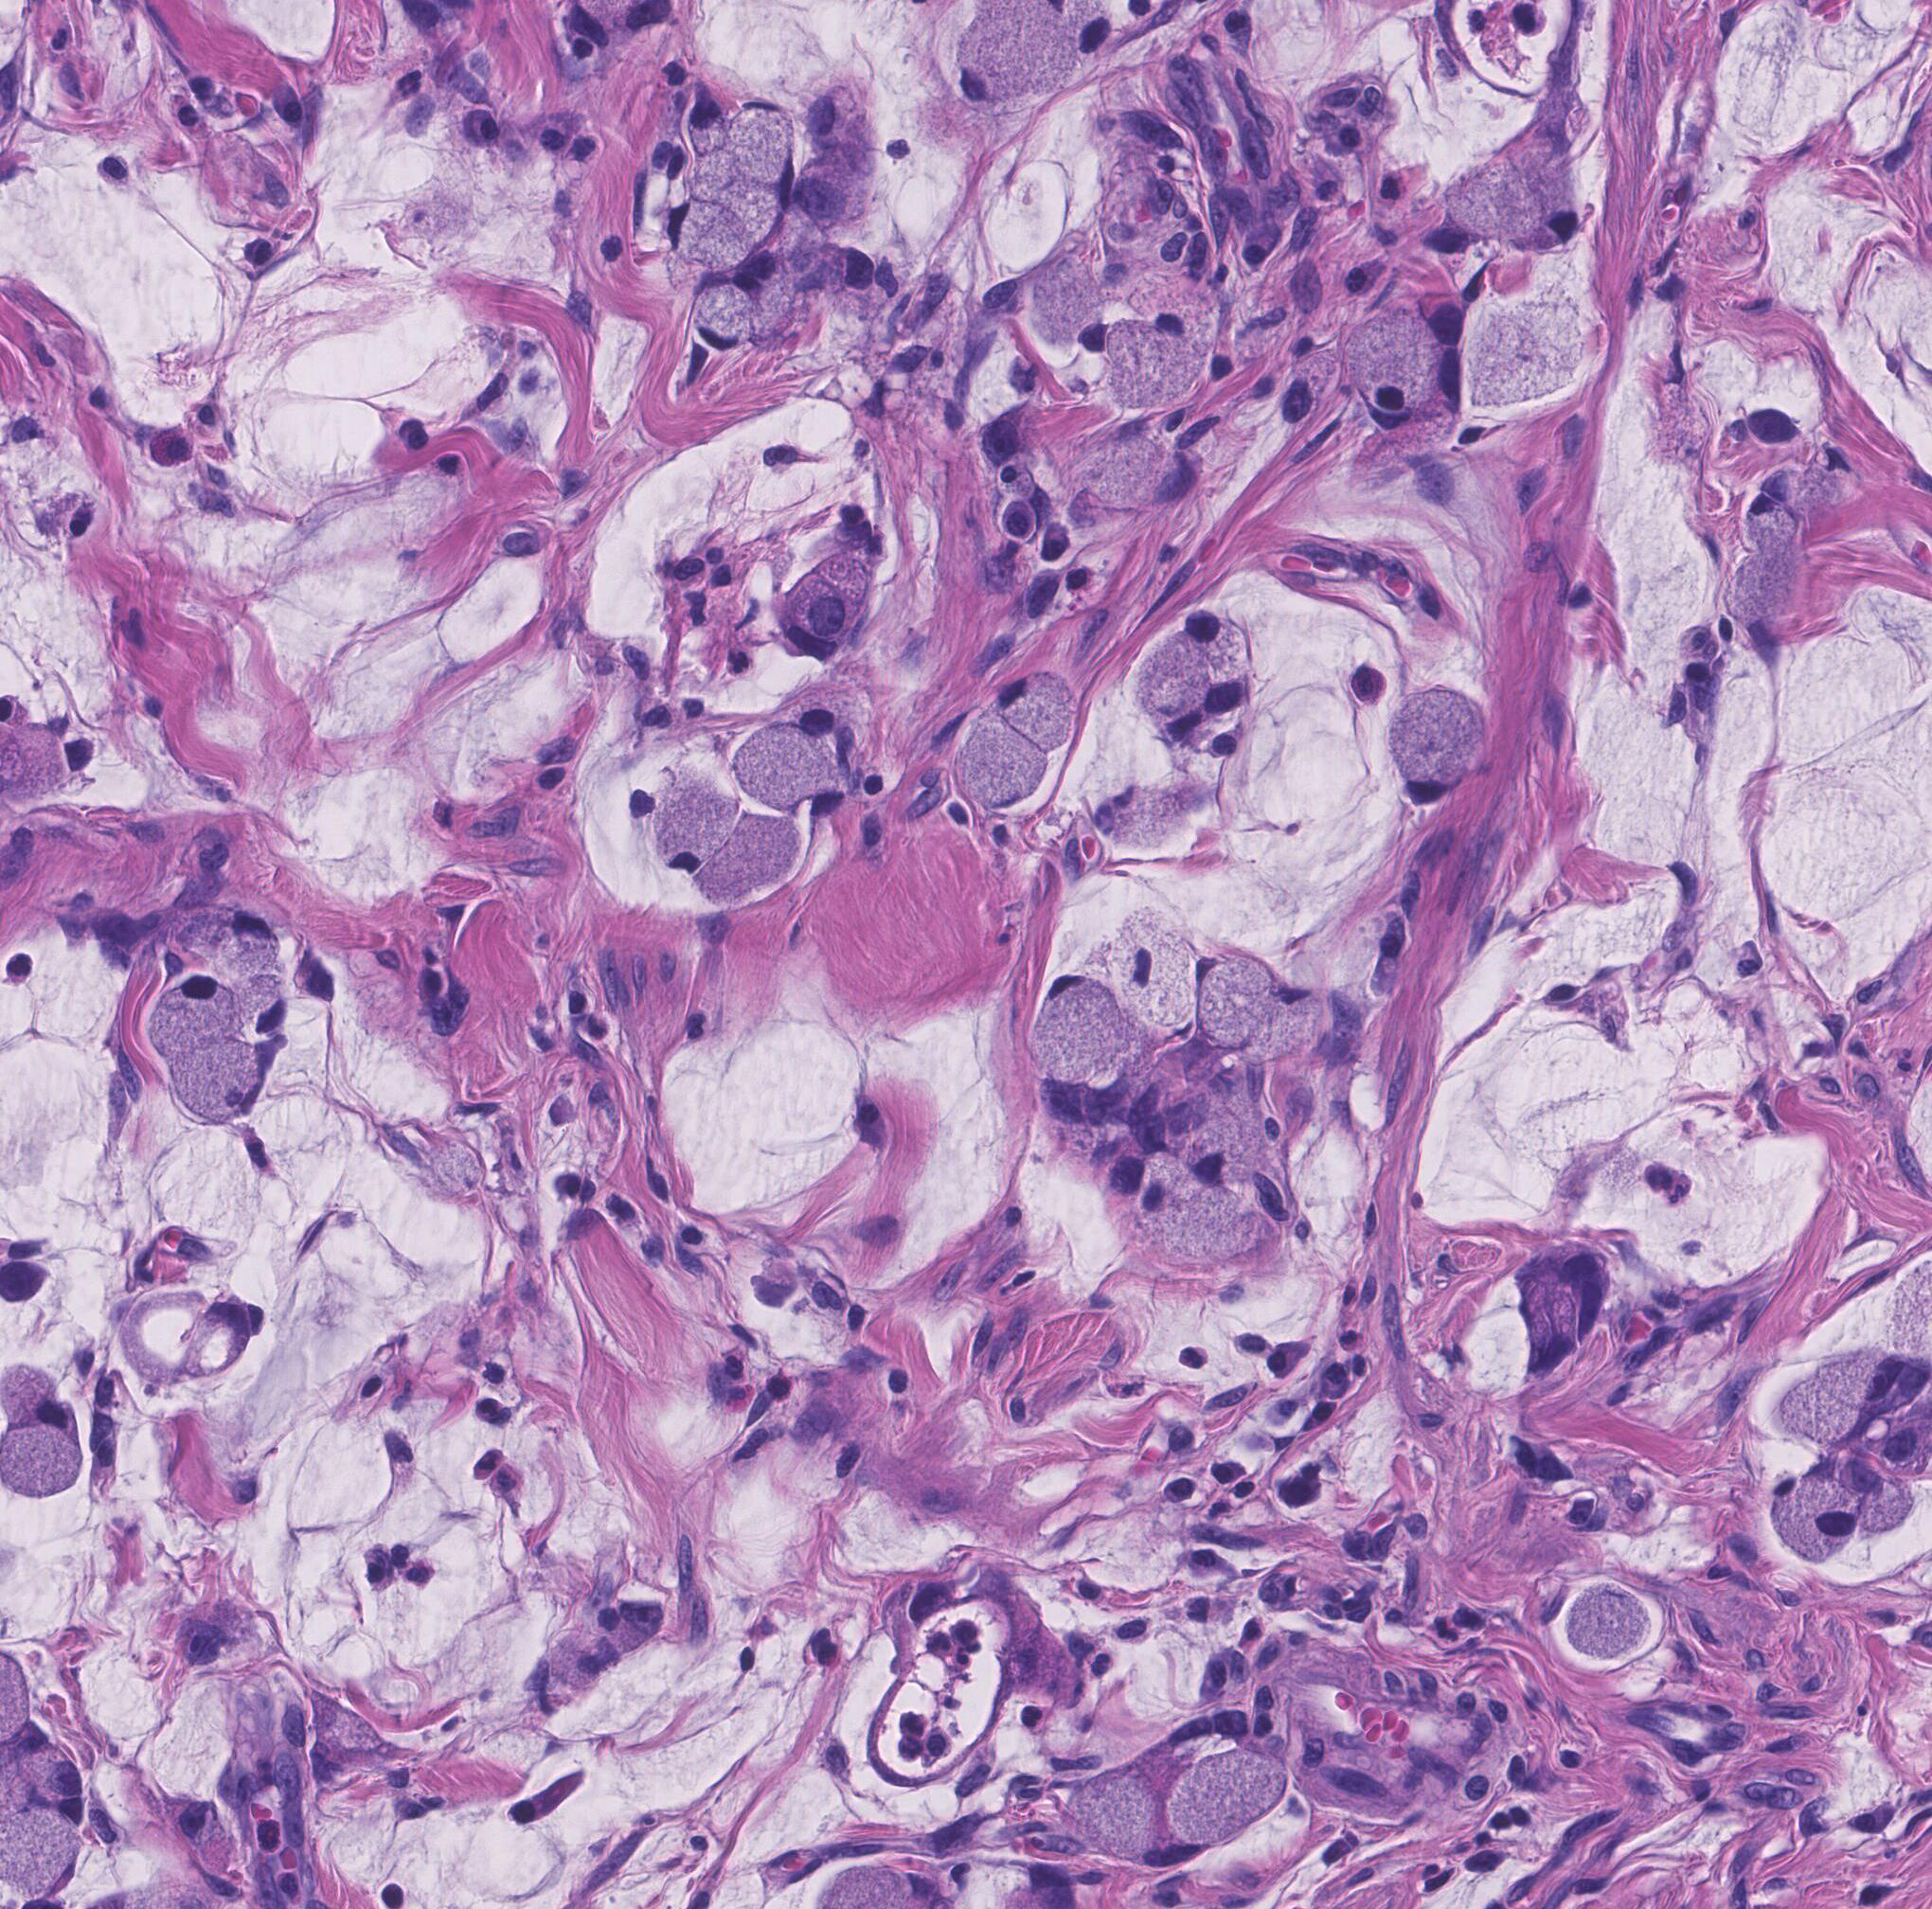ring_cell_cancer: (1133, 1156, 1259, 1262), (1077, 1778, 1217, 1872), (1483, 135, 1589, 257), (1019, 965, 1122, 1070), (1122, 642, 1222, 745), (729, 729, 846, 816), (1393, 689, 1486, 799), (1175, 1082, 1264, 1196), (1708, 488, 1815, 580), (1107, 916, 1191, 1024), (1769, 1475, 1864, 1568), (173, 1040, 269, 1126), (1345, 318, 1430, 413), (722, 149, 808, 234), (1185, 954, 1269, 1042), (1822, 1344, 1925, 1414), (145, 975, 234, 1051), (1129, 280, 1226, 348), (650, 794, 729, 872), (955, 23, 1026, 101), (17, 1739, 87, 1818), (993, 678, 1075, 741), (664, 206, 745, 269), (206, 909, 280, 970), (729, 100, 790, 171), (1266, 984, 1320, 1056), (692, 285, 748, 350), (685, 103, 727, 152)
